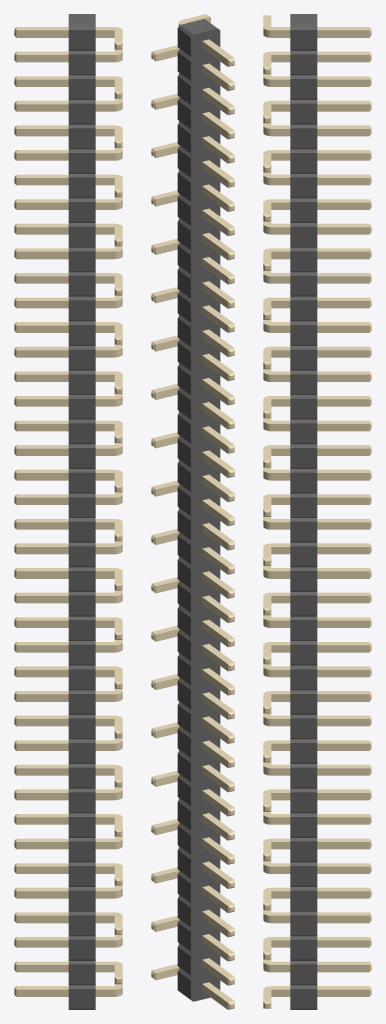
Rendered from PinHeader_1x40_P1.00mm_Vertical_SMD_Pin1Right.glb.
3 views of the same model, side by side, from view 1: azimuth 90°, elevation 25°; view 2: azimuth 210°, elevation 25°; view 3: azimuth 270°, elevation 25° (orthographic).
Parts seen in each view (by area): view 1: Shape_IndexedFaceSet.145, Shape_IndexedFaceSet.025, Shape_IndexedFaceSet.055, Shape_IndexedFaceSet.067, Shape_IndexedFaceSet.085, Shape_IndexedFaceSet.097, Shape_IndexedFaceSet.115, Shape_IndexedFaceSet.127, Shape_IndexedFaceSet.157, Shape_IndexedFaceSet.187, Shape_IndexedFaceSet.217, Shape_IndexedFaceSet.229 (+69 smaller); view 2: Shape_IndexedFaceSet.004, Shape_IndexedFaceSet.001, Shape_IndexedFaceSet.214, Shape_IndexedFaceSet.220, Shape_IndexedFaceSet.010, Shape_IndexedFaceSet.016, Shape_IndexedFaceSet.046, Shape_IndexedFaceSet.052, Shape_IndexedFaceSet.076, Shape_IndexedFaceSet.082, Shape_IndexedFaceSet.112, Shape_IndexedFaceSet.118 (+30 smaller); view 3: Shape_IndexedFaceSet.142, Shape_IndexedFaceSet.022, Shape_IndexedFaceSet.052, Shape_IndexedFaceSet.064, Shape_IndexedFaceSet.082, Shape_IndexedFaceSet.094, Shape_IndexedFaceSet.112, Shape_IndexedFaceSet.124, Shape_IndexedFaceSet.154, Shape_IndexedFaceSet.184, Shape_IndexedFaceSet.214, Shape_IndexedFaceSet.226 (+69 smaller).
Boxes of the visible parts, <box> form: Shape_IndexedFaceSet.145: <box>68,595,95,615</box>; Shape_IndexedFaceSet.025: <box>68,103,95,123</box>; Shape_IndexedFaceSet.055: <box>68,226,95,246</box>; Shape_IndexedFaceSet.067: <box>68,275,95,295</box>; Shape_IndexedFaceSet.085: <box>68,349,95,369</box>; Shape_IndexedFaceSet.097: <box>68,398,95,418</box>; Shape_IndexedFaceSet.115: <box>68,472,95,492</box>; Shape_IndexedFaceSet.127: <box>68,521,95,541</box>; Shape_IndexedFaceSet.157: <box>68,644,95,664</box>; Shape_IndexedFaceSet.187: <box>68,767,95,787</box>; Shape_IndexedFaceSet.217: <box>68,890,95,910</box>; Shape_IndexedFaceSet.229: <box>68,939,95,959</box>; Shape_IndexedFaceSet.004: <box>191,28,220,1001</box>; Shape_IndexedFaceSet.001: <box>180,19,217,34</box>; Shape_IndexedFaceSet.214: <box>177,874,190,902</box>; Shape_IndexedFaceSet.220: <box>177,898,190,926</box>; Shape_IndexedFaceSet.010: <box>177,52,190,80</box>; Shape_IndexedFaceSet.016: <box>177,76,190,104</box>; Shape_IndexedFaceSet.046: <box>177,197,190,225</box>; Shape_IndexedFaceSet.052: <box>177,221,190,249</box>; Shape_IndexedFaceSet.076: <box>177,318,190,346</box>; Shape_IndexedFaceSet.082: <box>177,342,190,370</box>; Shape_IndexedFaceSet.112: <box>177,463,190,491</box>; Shape_IndexedFaceSet.118: <box>177,487,190,515</box>; Shape_IndexedFaceSet.142: <box>290,595,317,615</box>; Shape_IndexedFaceSet.022: <box>290,103,317,123</box>; Shape_IndexedFaceSet.052: <box>290,226,317,246</box>; Shape_IndexedFaceSet.064: <box>290,275,317,295</box>; Shape_IndexedFaceSet.082: <box>290,349,317,369</box>; Shape_IndexedFaceSet.094: <box>290,398,317,418</box>; Shape_IndexedFaceSet.112: <box>290,472,317,492</box>; Shape_IndexedFaceSet.124: <box>290,521,317,541</box>; Shape_IndexedFaceSet.154: <box>290,644,317,664</box>; Shape_IndexedFaceSet.184: <box>290,767,317,787</box>; Shape_IndexedFaceSet.214: <box>290,890,317,910</box>; Shape_IndexedFaceSet.226: <box>290,939,317,959</box>.
Bounding box in the file's own units: 0.984 × 15.75 × 1.58.
